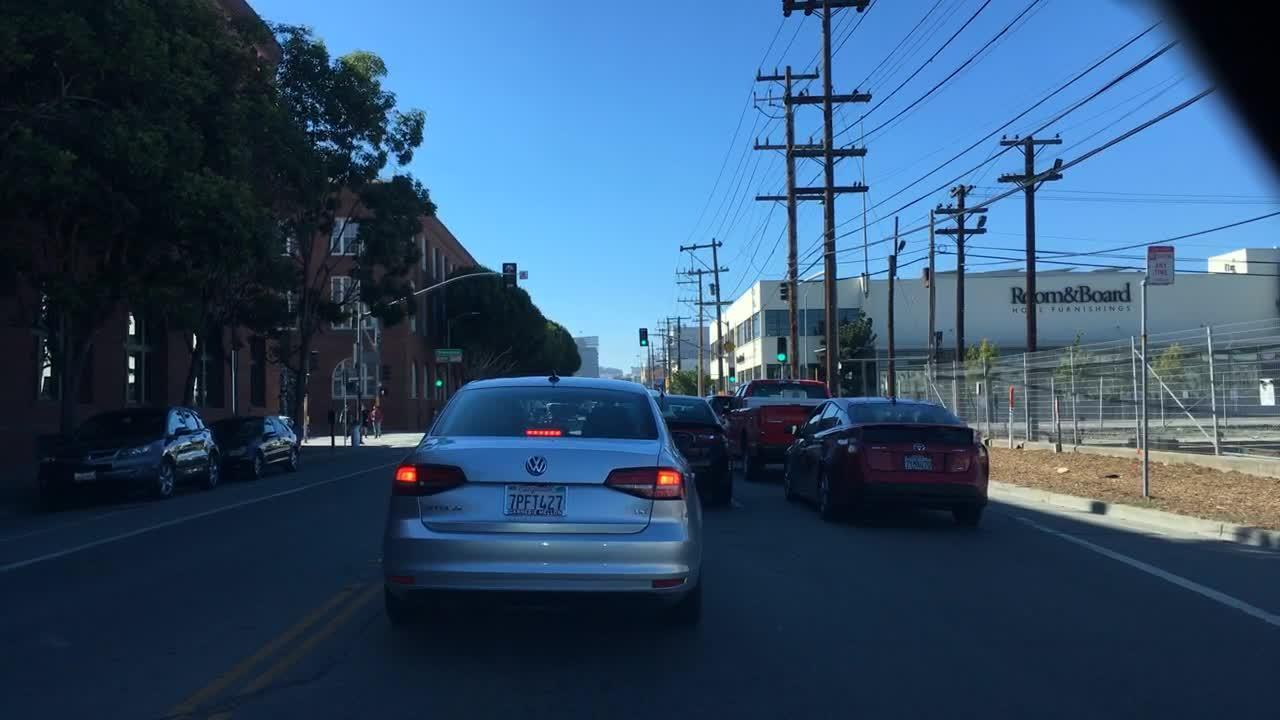Toyota: (912, 442, 925, 454)
Volkswagen: (522, 452, 549, 480)
